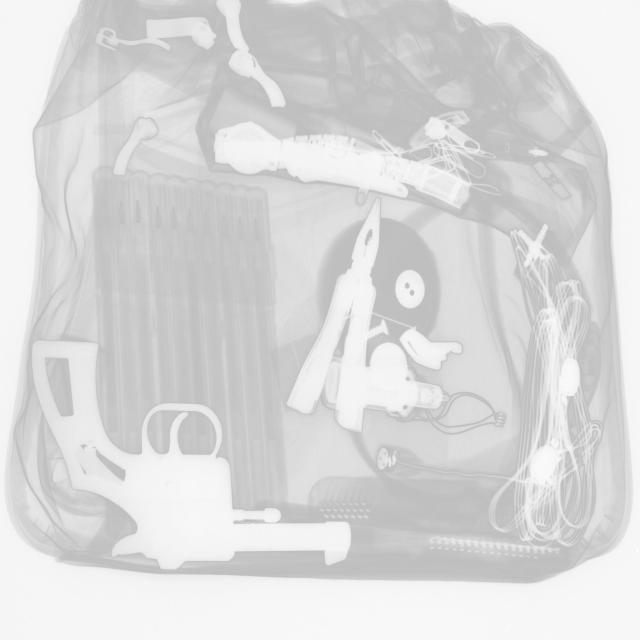pistol: (32, 341, 354, 569)
